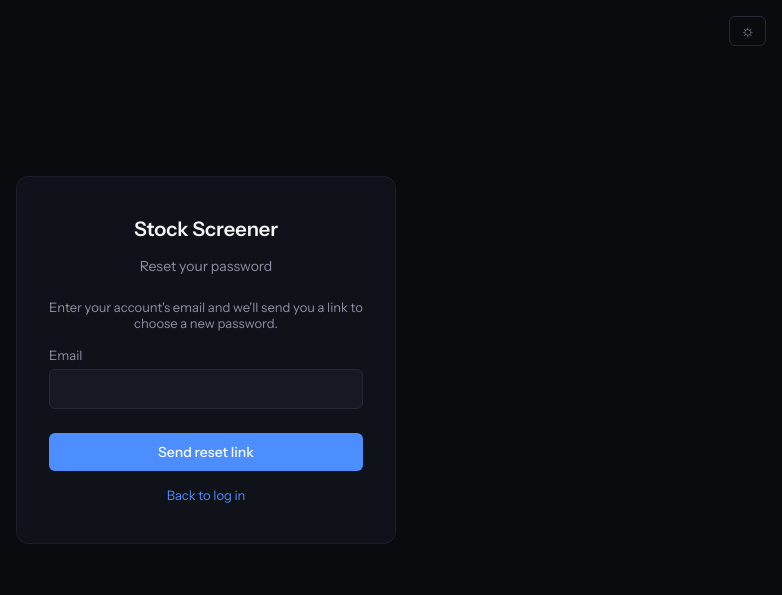
Test: ForgotPasswordView › shows errors such as rate limiting
Type "me@example.com" into the field labelled "Email" at (206, 389), box x1=49 y1=369 x2=363 y2=409
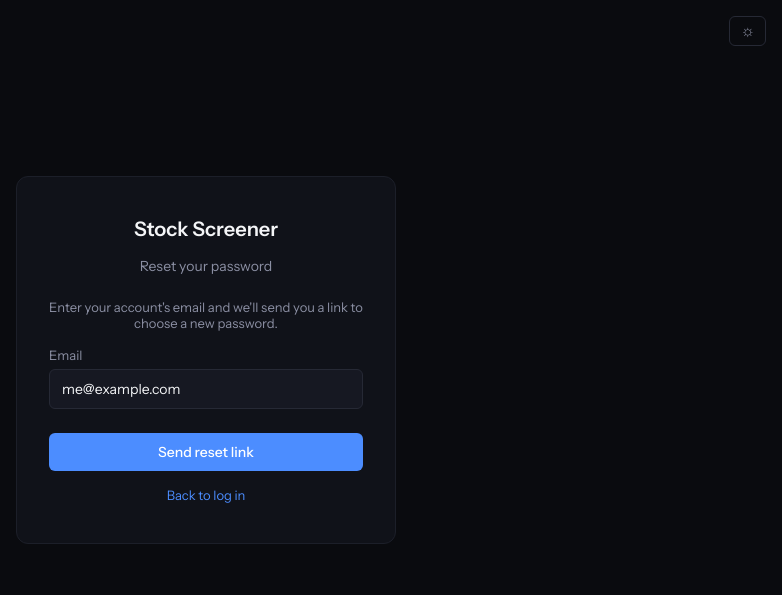
Submit the form, box x1=49 y1=299 x2=363 y2=503
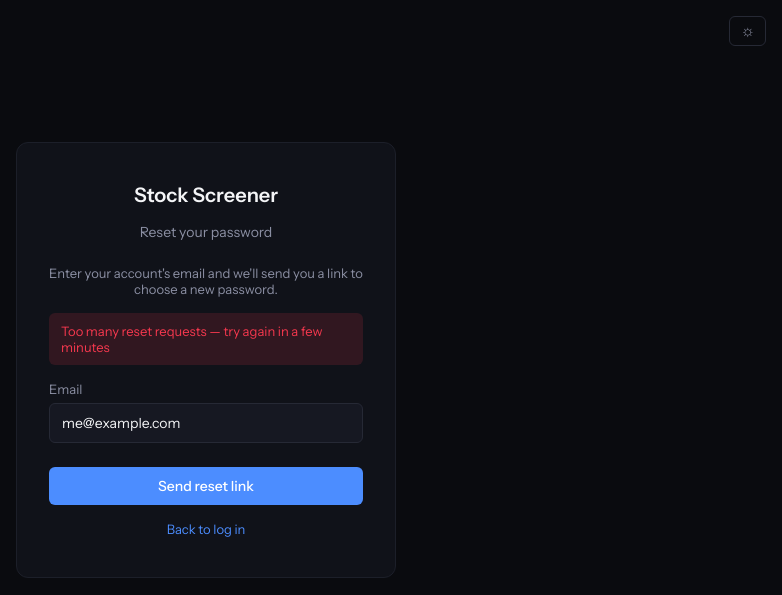
Now the text with class "form-error" shows "Too many reset requests", box x1=61 y1=323 x2=322 y2=355
